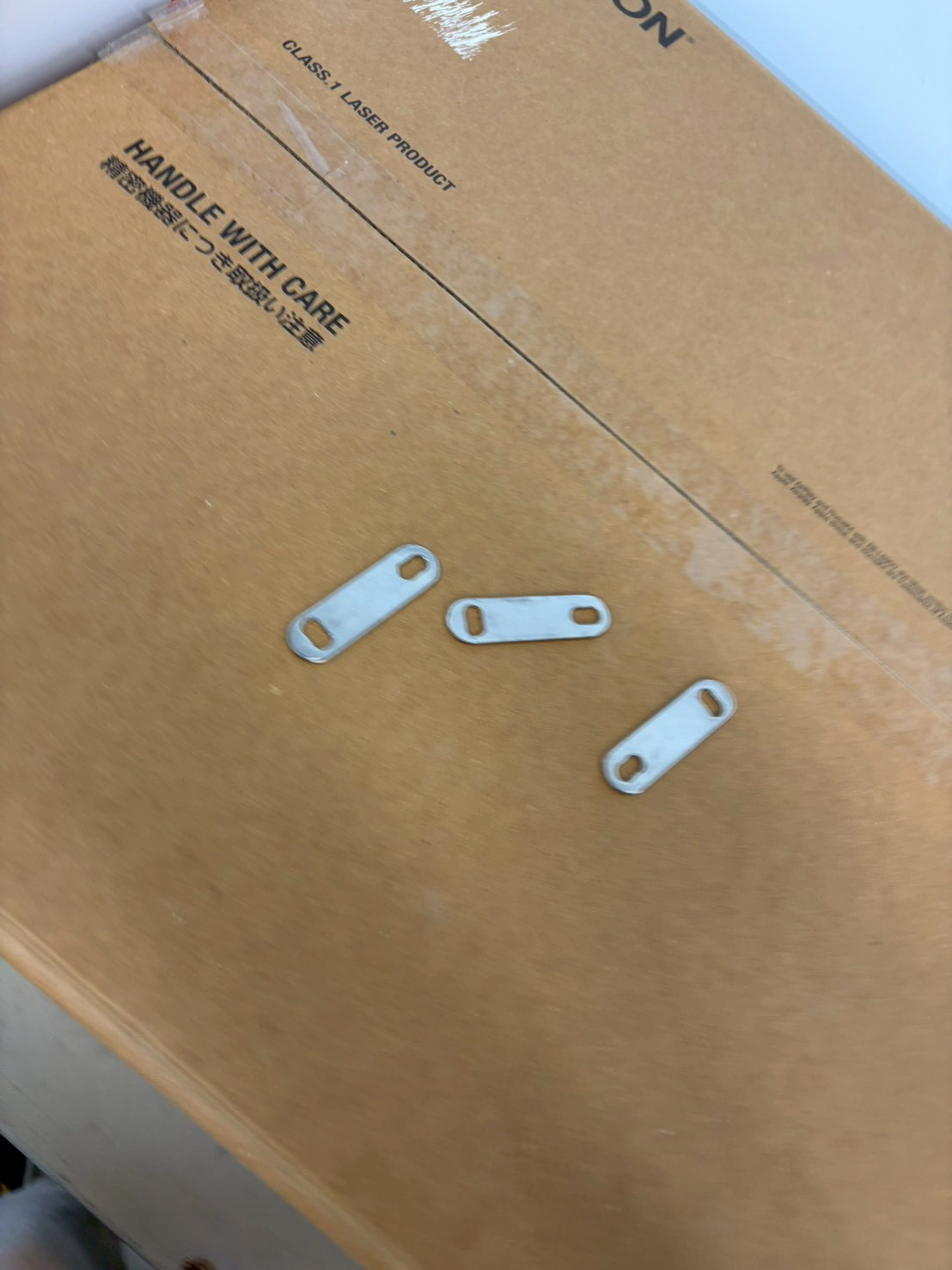Fe: (289, 544, 437, 661), (605, 682, 738, 797), (625, 581, 701, 757), (707, 656, 783, 832), (412, 524, 487, 700), (444, 590, 611, 657)
